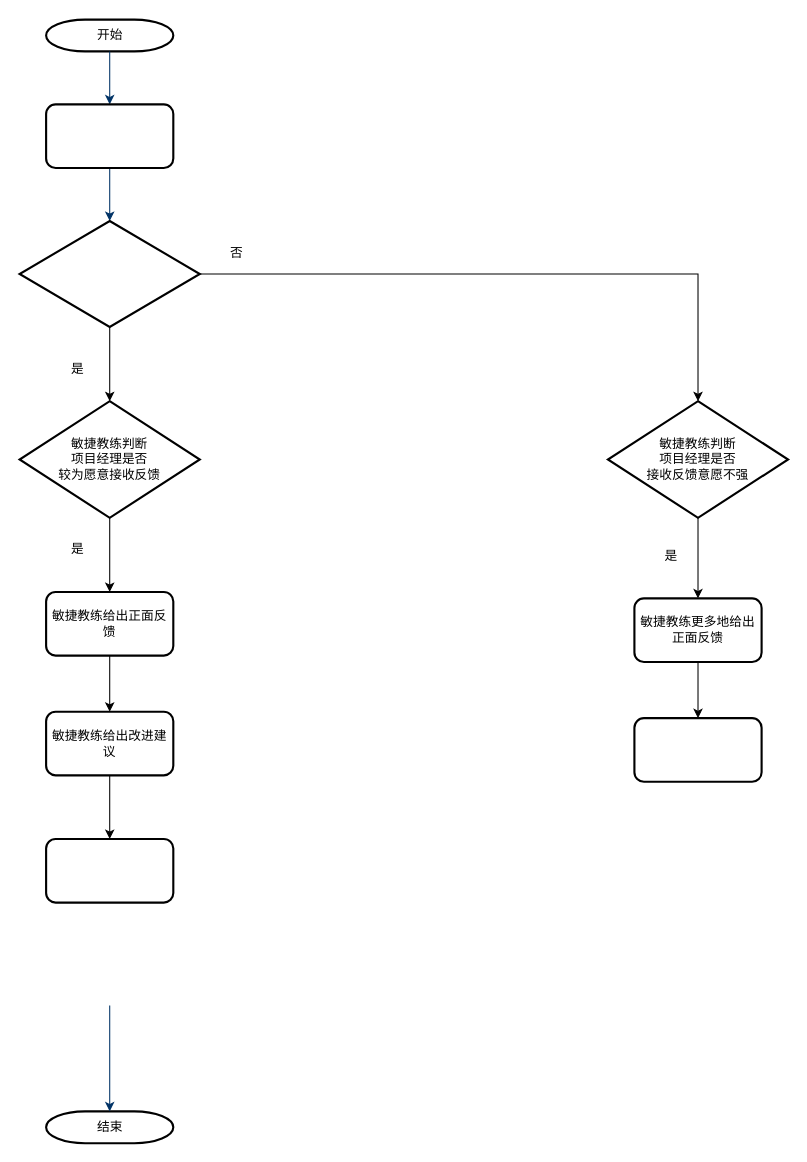
This 807x1162 diagram has some shape labels left out. Here are the shapes that lost their labels. From the top down, the centre of each, then its label:
the point at 109,136: 请求敏捷教练 每日站会的反馈
the point at 109,273: 敏捷教练判断 团队每日站会 是否在优化阶段以上
the point at 697,749: 敏捷教练告知团队 如何开站会
the point at 109,870: 敏捷教练鼓励项目经理和团队
